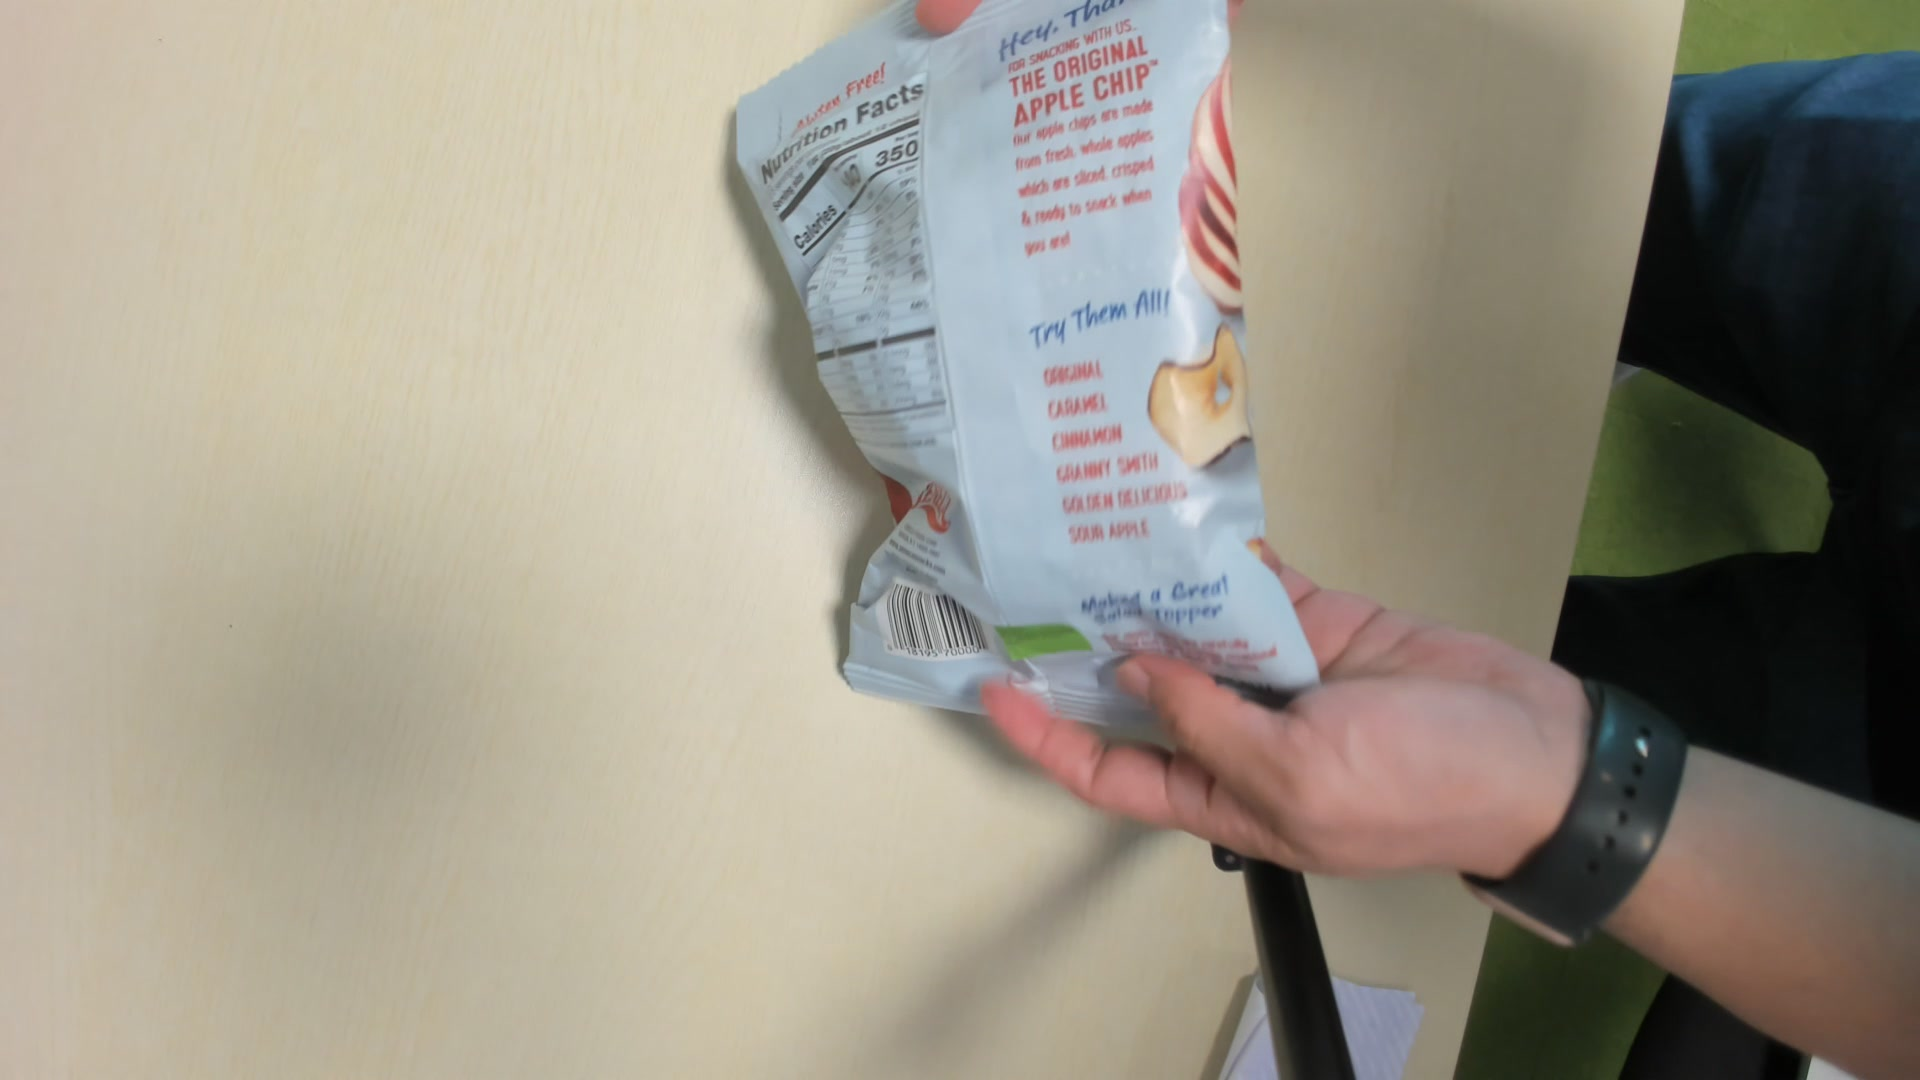PotatoChipsKeropok_0-99g_NonHalal_NonHealthy: (733, 7, 1320, 752)
